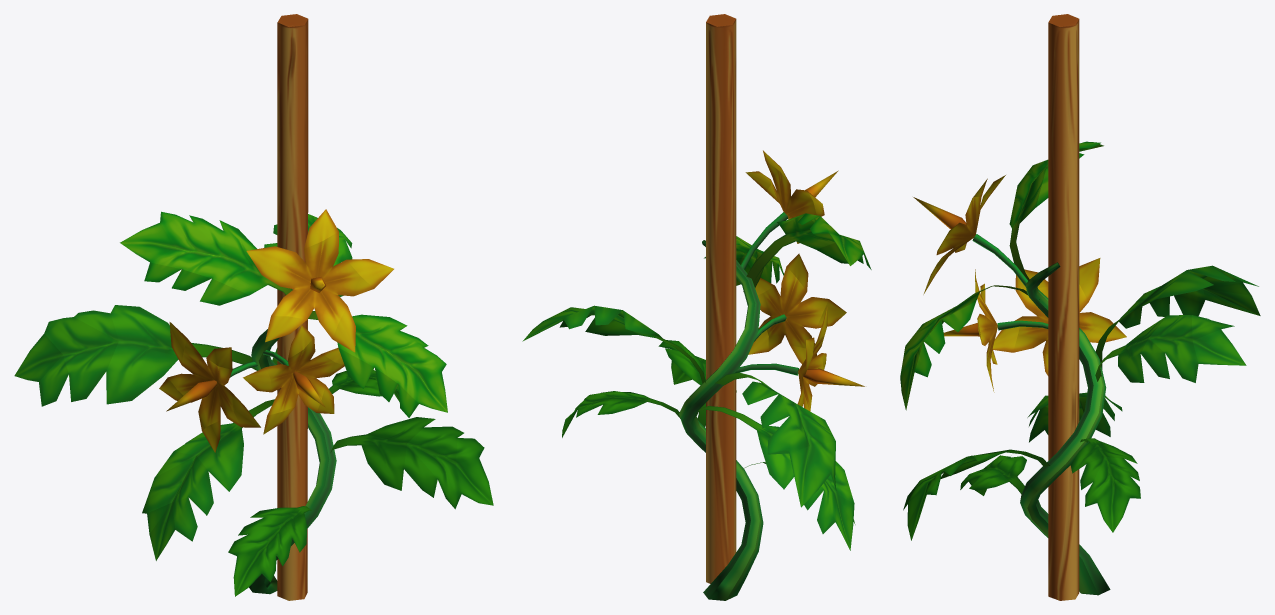
Rendered from level_3.glb.
3 renders of one model, left to right at view 1: azimuth 30°, elevation 25°; view 2: azimuth 150°, elevation 25°; view 3: azimuth 270°, elevation 25°, orthographic. The views are drawn at different scales.
Visible parts, largest first — view 1: SM_Tomato_Lv2_Tomato_SG_0; view 2: SM_Tomato_Lv2_Tomato_SG_0; view 3: SM_Tomato_Lv2_Tomato_SG_0.
Part boxes in pixels (x1,y1,x2,y2): SM_Tomato_Lv2_Tomato_SG_0: (14,14,493,600); SM_Tomato_Lv2_Tomato_SG_0: (522,14,871,600); SM_Tomato_Lv2_Tomato_SG_0: (900,14,1260,600).
Bounding box in the file's own units: 28 × 47.48 × 27.02.
1 material, 1 textured.
